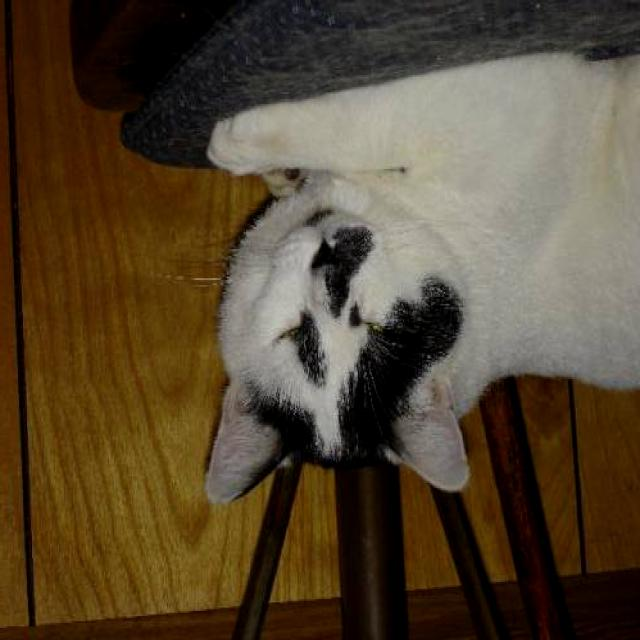Kucing: (151, 42, 638, 564)
